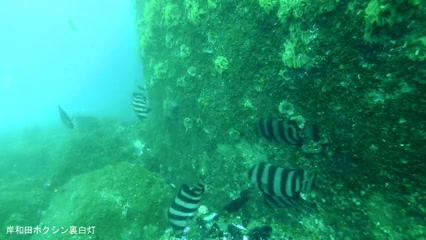ishidai: (244, 161, 317, 198), (161, 180, 213, 230), (249, 111, 305, 142), (129, 82, 151, 121)
